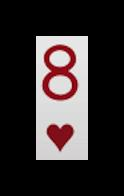8H: (40, 41, 83, 155)
